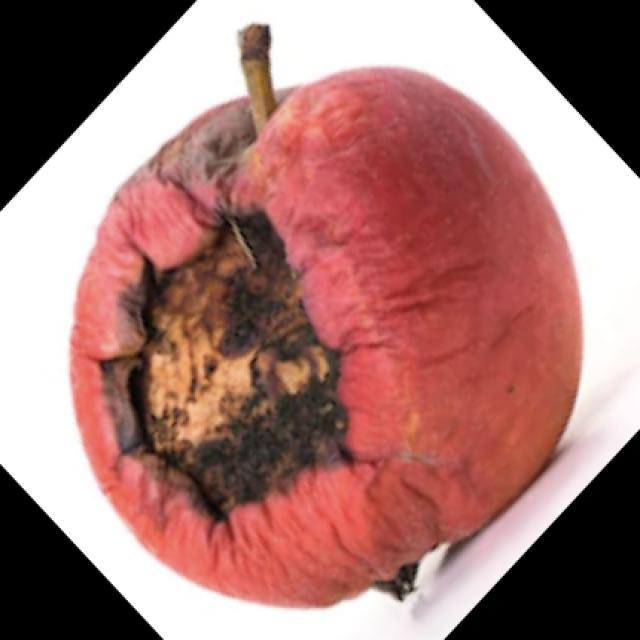Rotten: (80, 71, 552, 602)
